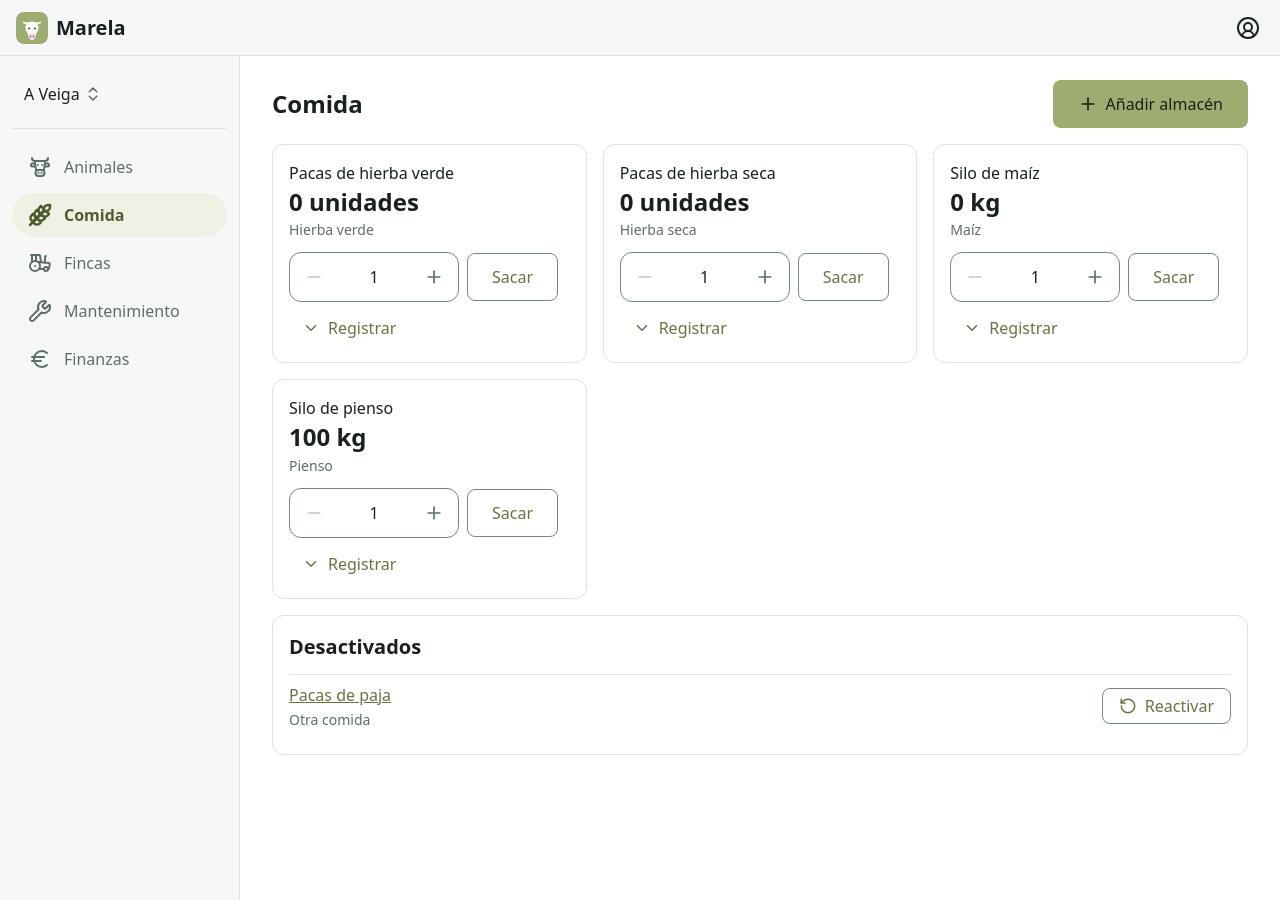
Scenario: movimientos de comida › registra una salida desde la tarjeta y avisa si el stock queda en negativo
The image size is (1280, 900).
Click the button with aria-label "Registrar en Silo de pienso" at (349, 564), box [289,546,409,582]
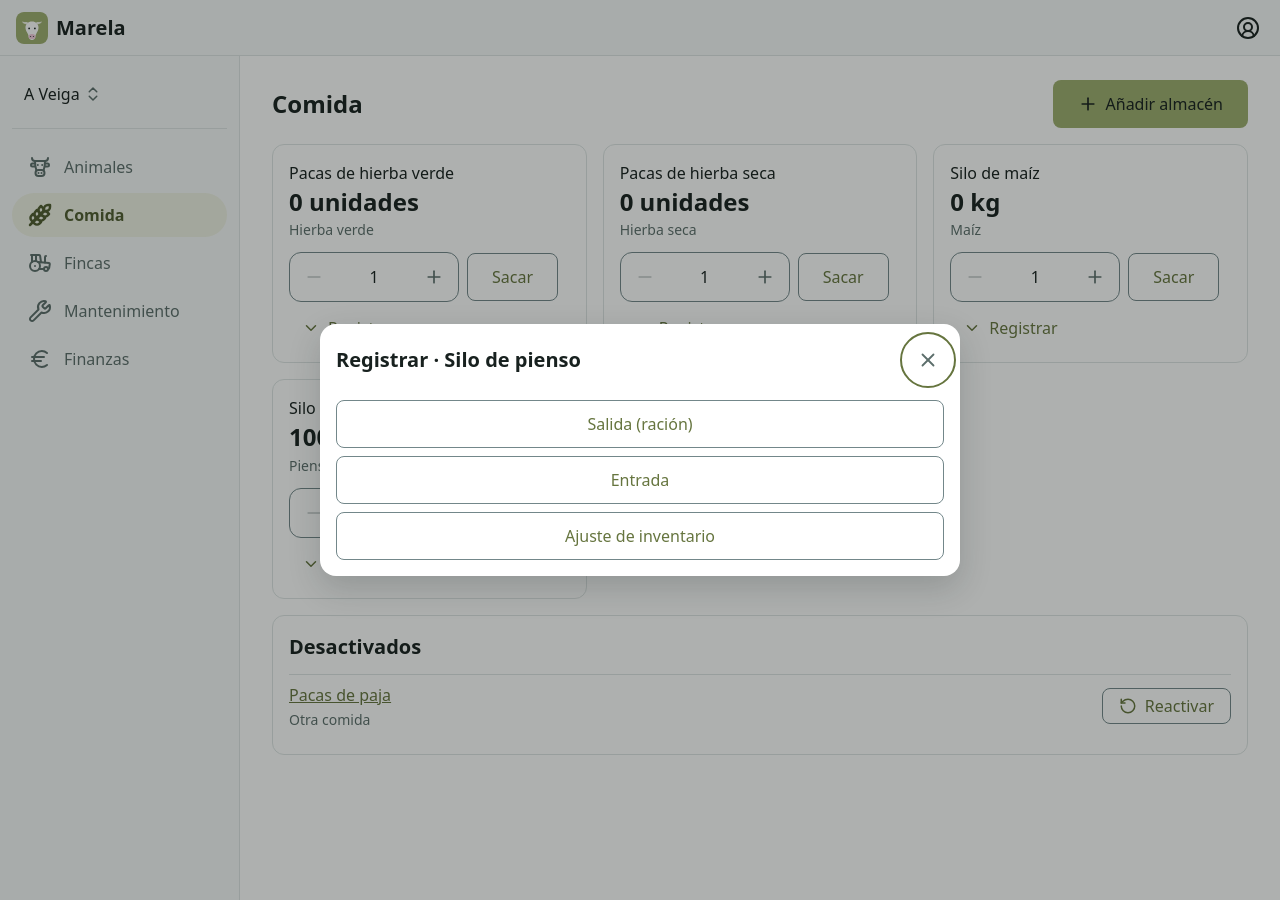
Click the button "Salida (ración)" at (640, 424), box [336,400,944,448]
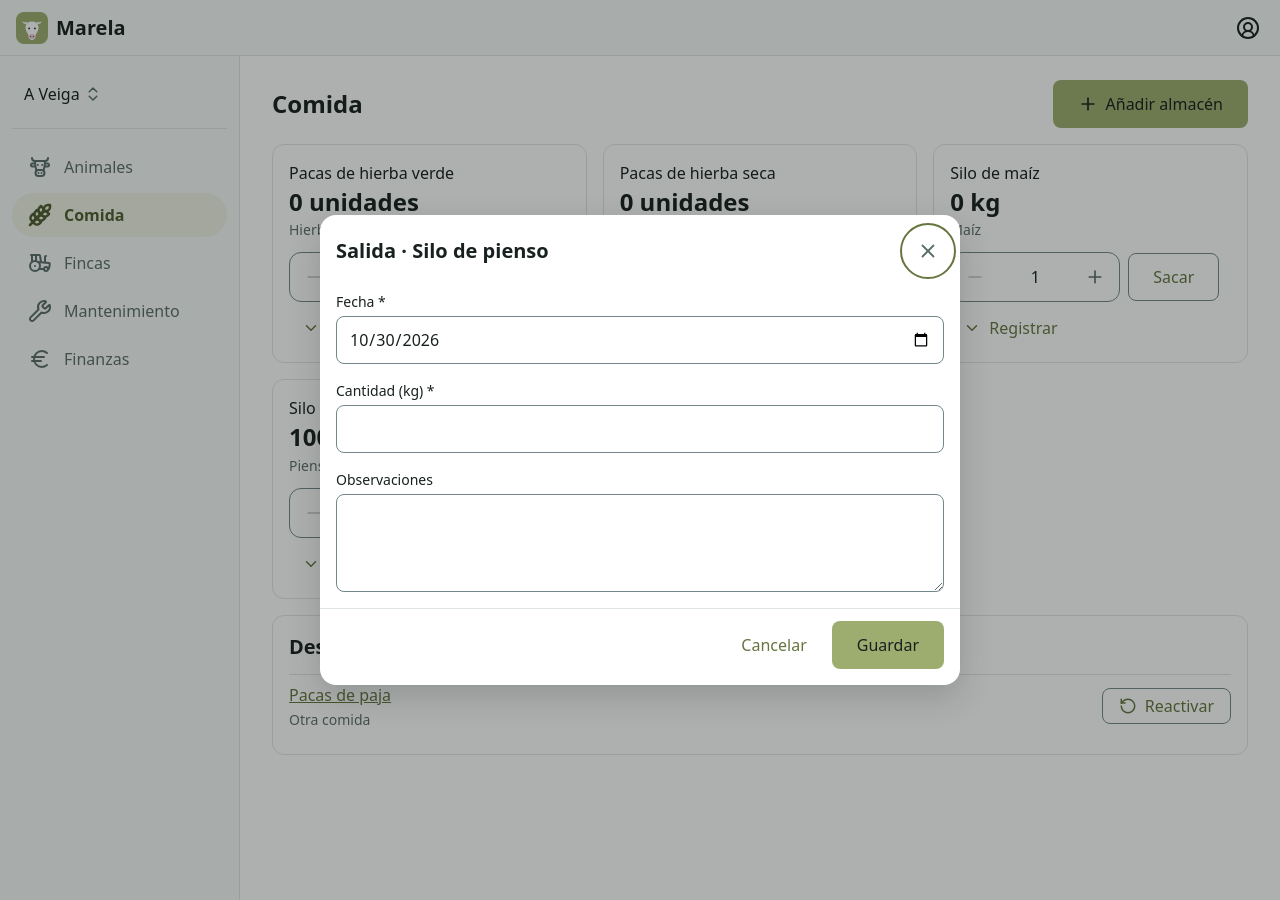
Type "120,5" into the field labelled "Cantidad (kg) *" at (640, 429), box [336,405,944,453]
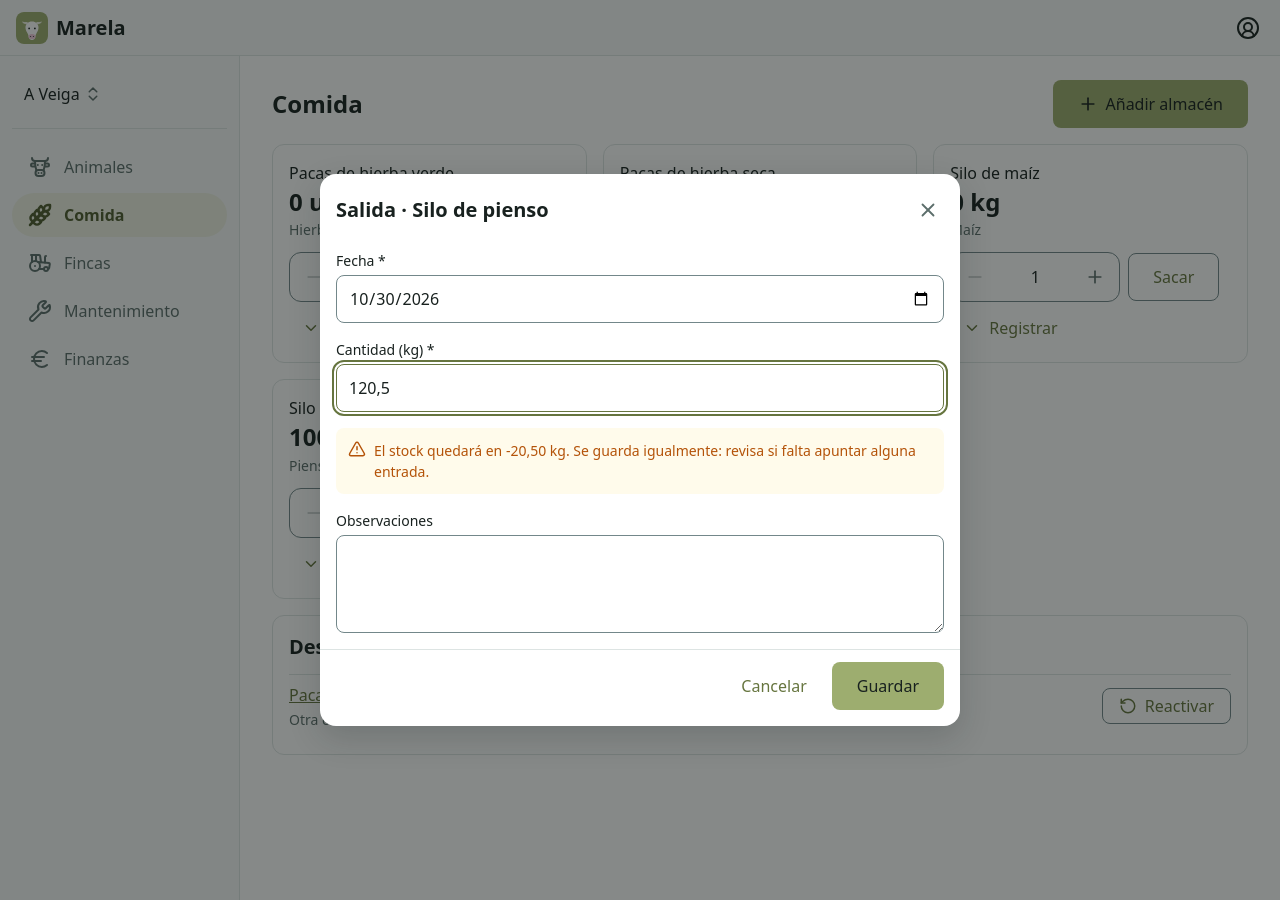
Result: the message shows "El stock quedará en -20,50 kg. Se guarda igualmente" at [336,428,944,494]
Click the button "Guardar" at (888, 686), box [832,662,944,710]
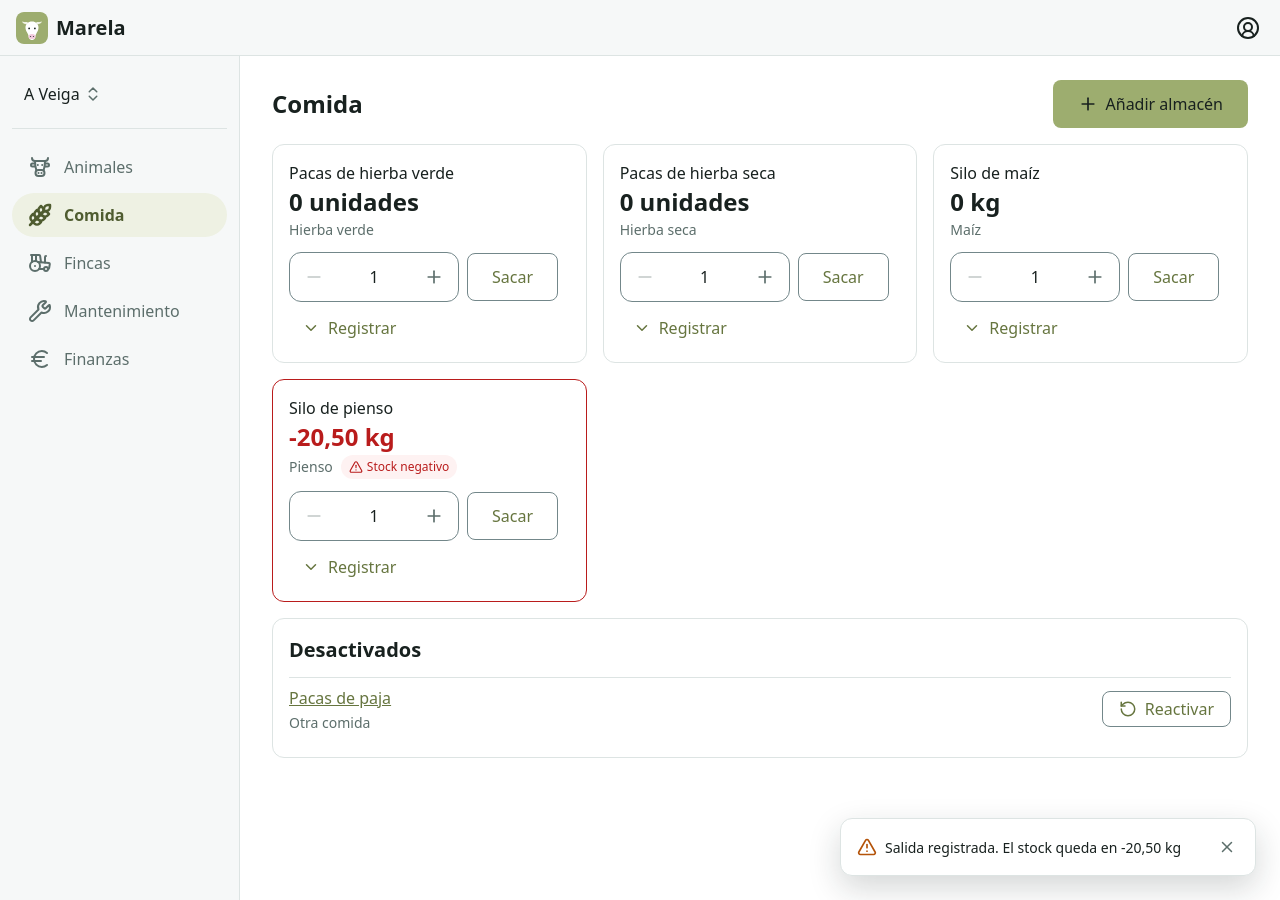
Result: the text "Salida registrada. El stock queda en -20,50 kg" is shown at [885,836,1195,858]
Result: the text "Stock negativo" is shown at [341,455,457,479]
